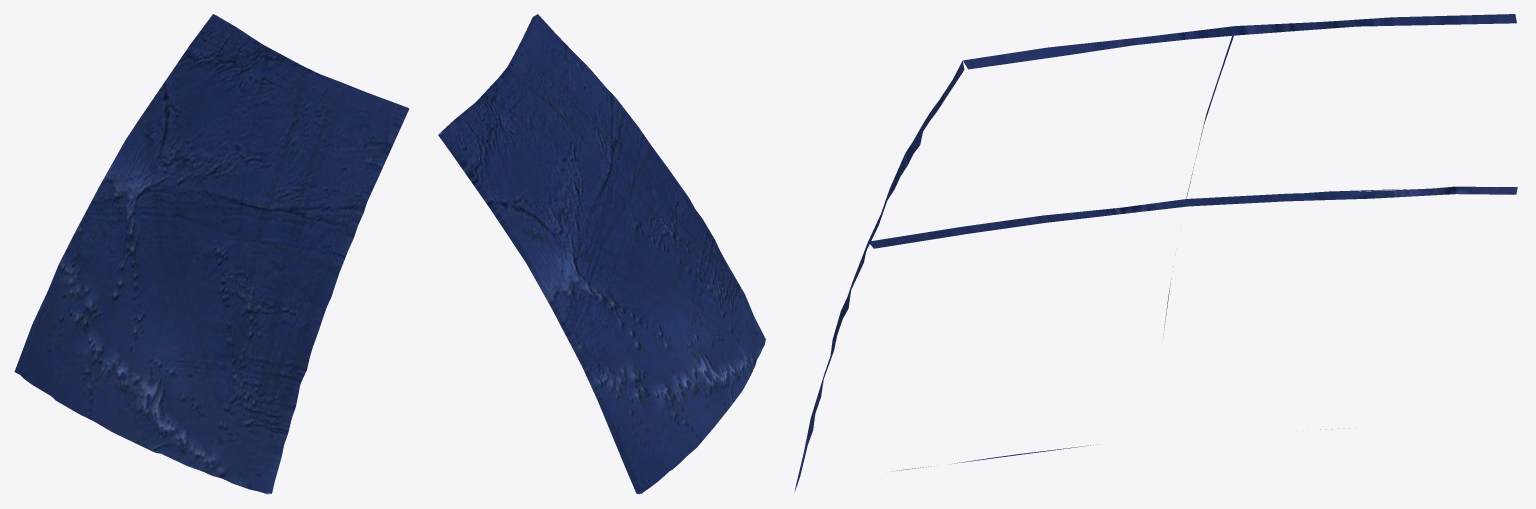
The picture shows the model from 3 angles, left to right: view 1: azimuth 30°, elevation 25°; view 2: azimuth 150°, elevation 25°; view 3: azimuth 270°, elevation 25°; orthographic projection. The views are drawn at different scales.
Bounding box in the file's own units: 1757832 × 2102769 × 2285117.
1 material, 1 textured.
